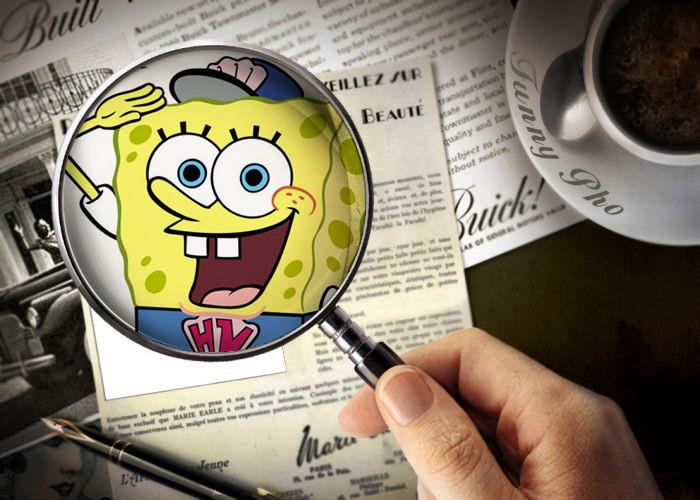SpongeBob: (46, 40, 371, 362)
